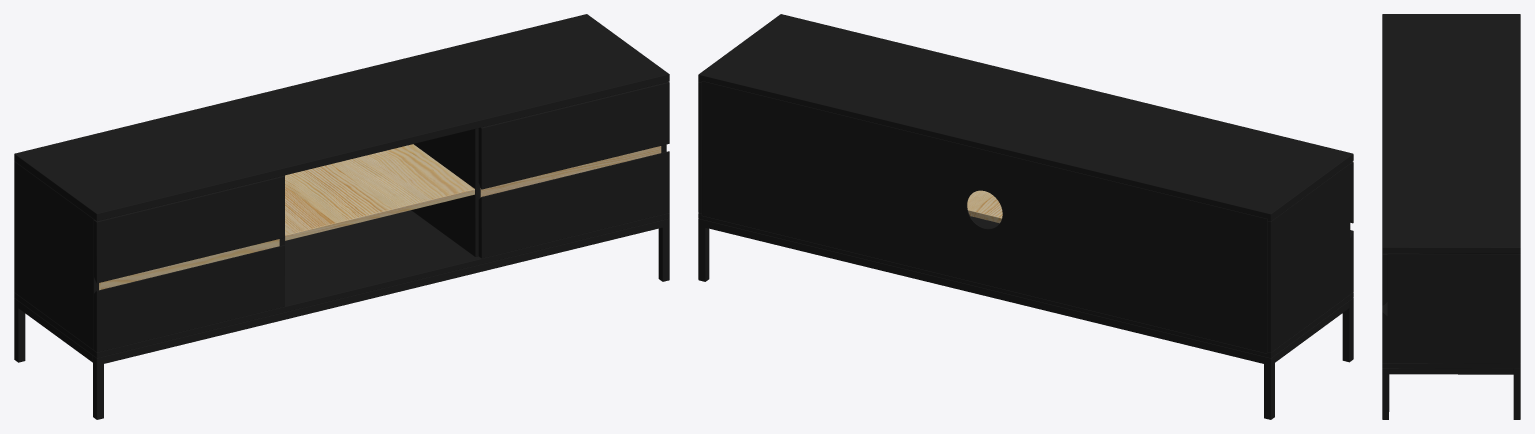
3 renders of one model, left to right at view 1: azimuth 30°, elevation 25°; view 2: azimuth 150°, elevation 25°; view 3: azimuth 270°, elevation 25°, orthographic. The views are drawn at different scales.
Visible parts, largest first — view 1: Body1, Body3, Body31, Body12, Body30, Body10, Body40, Body2, Body5, Body39, Body32, Body15 (+2 smaller); view 2: Body29, Body1, Body2, Body6, Body3, Body40, Body5, Body7; view 3: Body1, Body8, Body9, Body3, Body6, Body5, Body30, Body31.
Part boxes in pixels (x1=…): Body1: x1=14, y1=14, x2=669, y2=220; Body3: x1=14, y1=210, x2=669, y2=357; Body31: x1=478, y1=82, x2=669, y2=189; Body12: x1=94, y1=175, x2=284, y2=283; Body30: x1=478, y1=151, x2=669, y2=258; Body10: x1=94, y1=245, x2=284, y2=352; Body40: x1=285, y1=144, x2=474, y2=240; Body2: x1=14, y1=161, x2=98, y2=349; Body5: x1=93, y1=218, x2=669, y2=419; Body39: x1=411, y1=128, x2=480, y2=256; Body32: x1=480, y1=146, x2=661, y2=197; Body15: x1=99, y1=239, x2=279, y2=290; Body29: x1=702, y1=81, x2=1267, y2=353; Body1: x1=698, y1=14, x2=1353, y2=221; Body2: x1=1267, y1=163, x2=1350, y2=352; Body6: x1=698, y1=218, x2=1274, y2=419; Body3: x1=698, y1=213, x2=1353, y2=357; Body40: x1=967, y1=190, x2=1002, y2=223; Body5: x1=1342, y1=298, x2=1353, y2=362; Body7: x1=1275, y1=301, x2=1349, y2=362; Body1: x1=1382, y1=14, x2=1520, y2=253; Body8: x1=1387, y1=253, x2=1520, y2=363; Body9: x1=1389, y1=368, x2=1513, y2=374; Body3: x1=1382, y1=363, x2=1520, y2=368; Body6: x1=1513, y1=368, x2=1520, y2=419; Body5: x1=1382, y1=368, x2=1389, y2=419; Body30: x1=1382, y1=302, x2=1387, y2=363; Body31: x1=1382, y1=253, x2=1387, y2=305.
Size of the model in its own units: 1.6 by 0.5505 by 0.4007.
2 materials, 1 textured.
